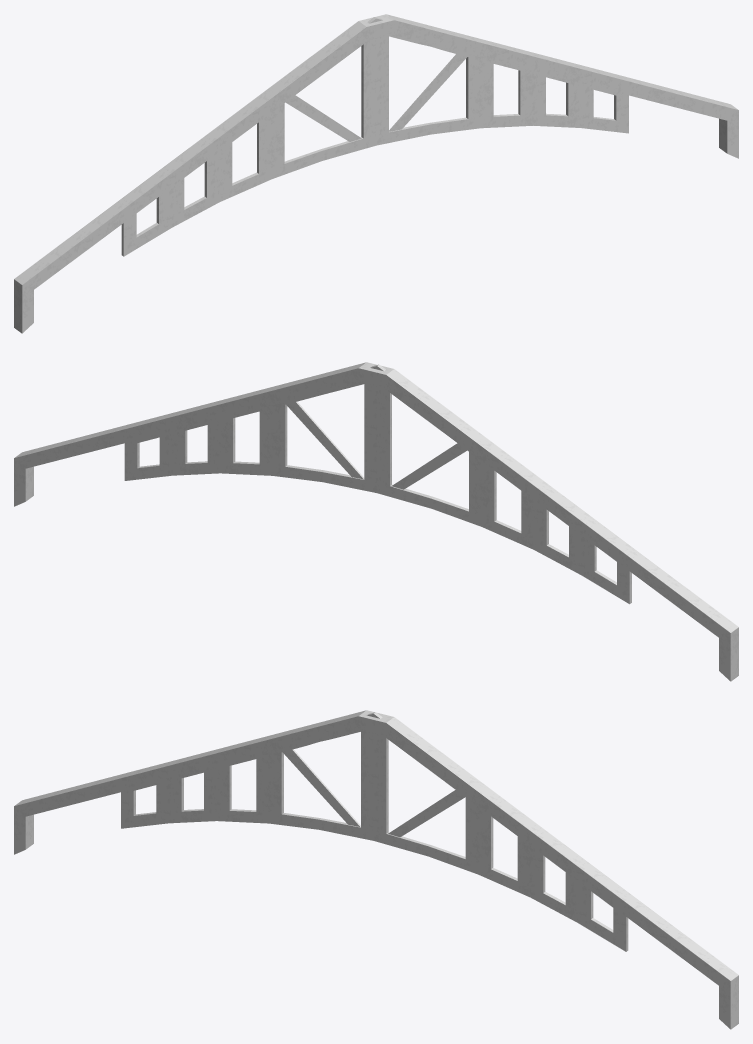
The model's file is ceilingframe_C_001.fbx.
The picture shows the model from 3 angles, top to bottom: view 1: azimuth 30°, elevation 25°; view 2: azimuth 150°, elevation 25°; view 3: azimuth 330°, elevation 25°; orthographic projection.
Visible parts, largest first — view 1: ceilingframe_C_001; view 2: ceilingframe_C_001; view 3: ceilingframe_C_001.
Boxes of the visible parts, x1,y1,x2,y2 form: ceilingframe_C_001: [14, 14, 738, 333]; ceilingframe_C_001: [14, 362, 738, 681]; ceilingframe_C_001: [14, 710, 738, 1029].
Size of the model in its own units: 1724 by 520 by 34.06.
1 material, 1 textured.
